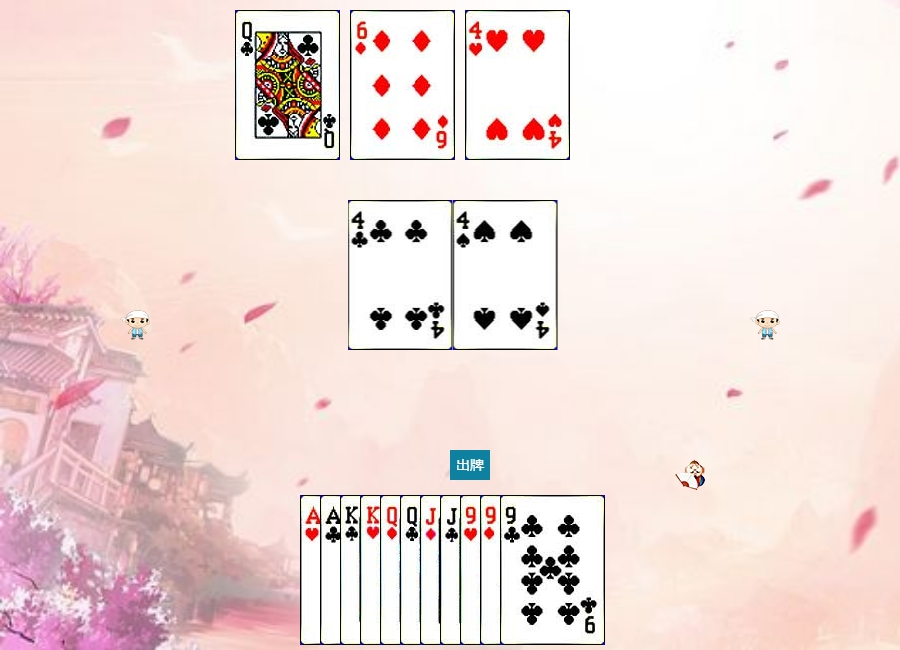11~1: (420, 495, 525, 645)
11~2: (440, 495, 545, 645)
12~1: (380, 495, 485, 645)
12~2: (235, 10, 340, 160), (400, 495, 505, 645)
13~2: (340, 495, 445, 645)
13~3: (360, 495, 465, 645)
14~2: (320, 495, 425, 645)
14~3: (300, 495, 405, 645)
4~2: (348, 200, 453, 350)
4~3: (465, 10, 570, 160)
4~4: (453, 200, 558, 350)
6~1: (350, 10, 455, 160)
9~1: (480, 495, 585, 645)
9~2: (500, 495, 605, 645)
9~3: (460, 495, 565, 645)
